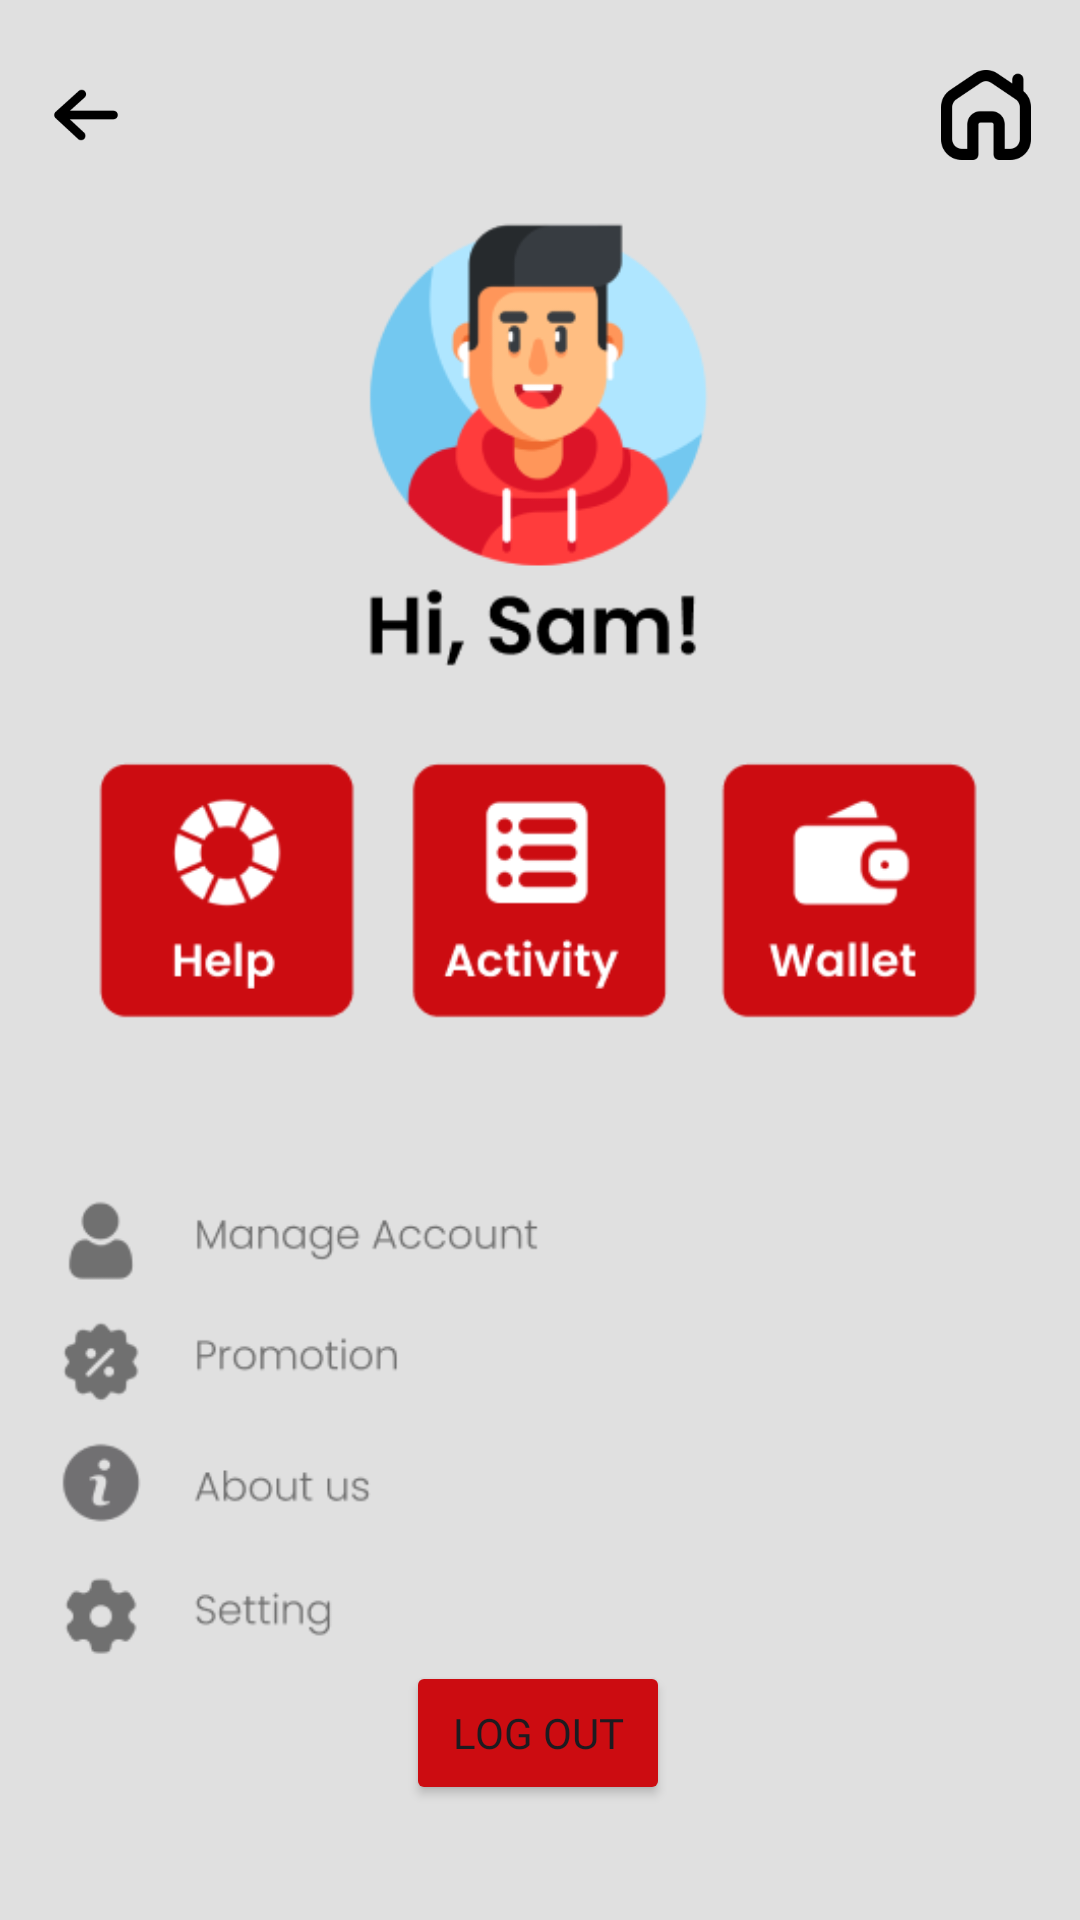

Screen size 1080px×1920px. Icon name, then its box in pixels as [x1, y1, x2, y2]:
back: [54, 89, 118, 141]
bhome: [941, 70, 1031, 160]
